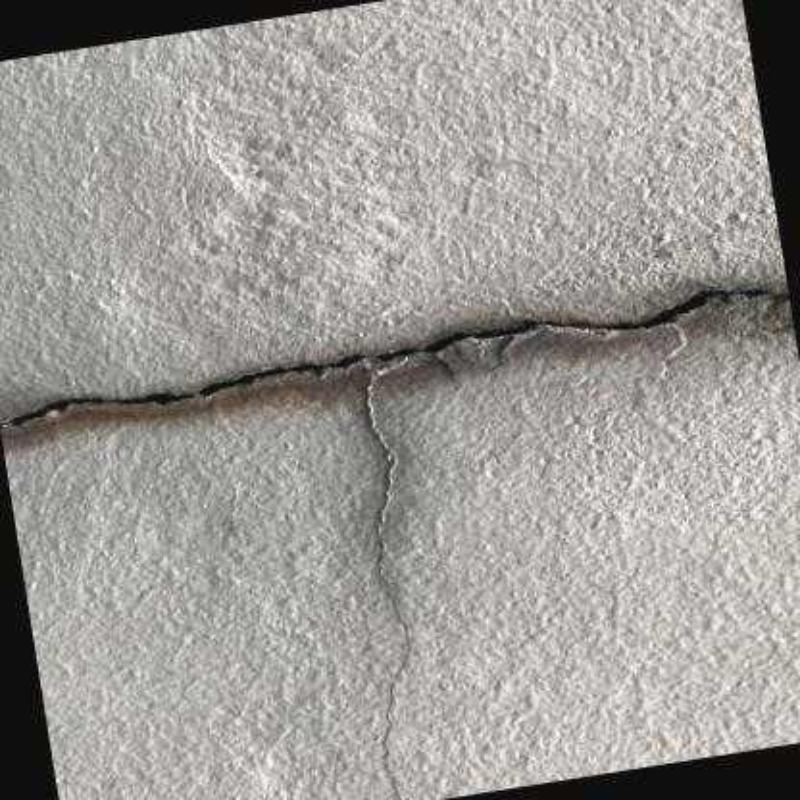pothole: (1, 289, 745, 427), (365, 365, 410, 798)
